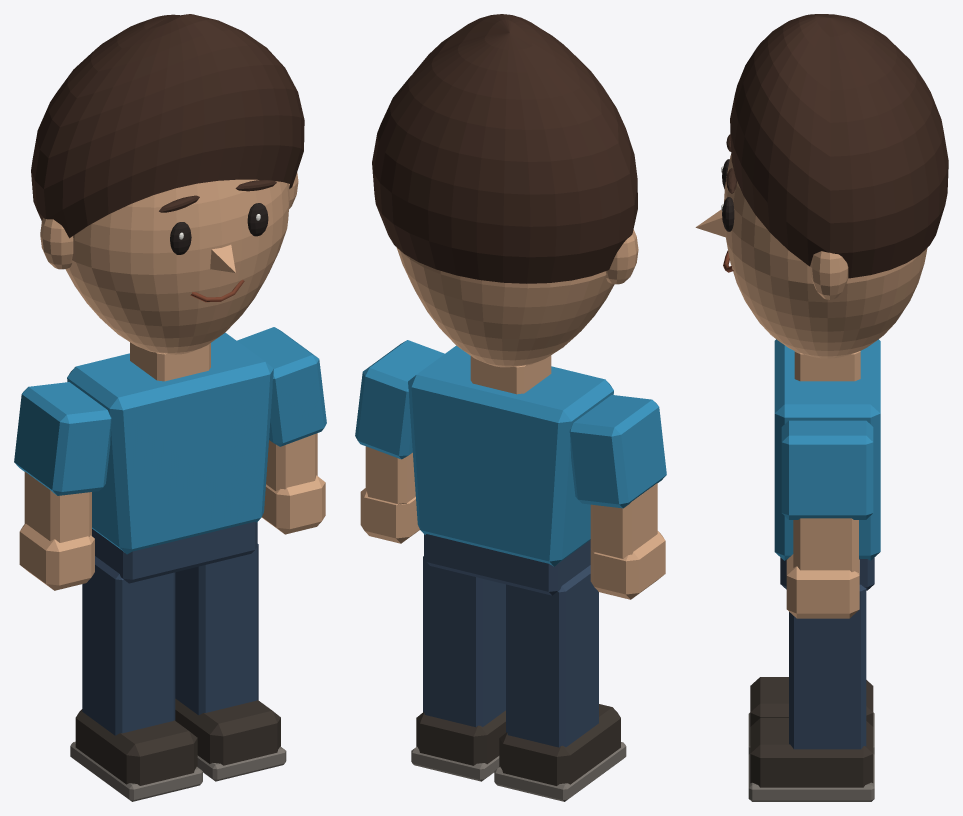
File: avatar-mii-kenney-cabelo-volumoso-01.fbx
3 renders of one model, left to right at view 1: azimuth 30°, elevation 25°; view 2: azimuth 150°, elevation 25°; view 3: azimuth 270°, elevation 25°, orthographic.
Parts seen in each view (by area): view 1: Cabelo_volumoso_01, Corpo_01, Cabeca_01, Perna_L, Perna_R, Manga, Sapato_L, Manga.001, Quadril, Sapato_R, Mao, Antebraco (+8 smaller); view 2: Cabelo_volumoso_01, Corpo_01, Perna_L, Cabeca_01, Perna_R, Manga, Manga.001, Quadril, Sapato_L, Sapato_R, Antebraco, Mao (+6 smaller); view 3: Cabelo_volumoso_01, Cabeca_01, Perna_R, Manga.001, Corpo_01, Sapato_R, Mao.001, Antebraco.001, Sola.001, Sapato_L, Pescoco, Orelha_R (+1 smaller).
Boxes of the visible parts, x1,y1,x2,y2 form: Cabelo_volumoso_01: (31,14,304,238); Corpo_01: (67,332,273,554); Cabeca_01: (65,179,289,354); Perna_L: (82,556,175,735); Perna_R: (175,544,258,715); Manga: (14,382,111,495); Sapato_L: (75,709,197,785); Manga.001: (237,327,326,446); Quadril: (92,521,257,583); Sapato_R: (175,698,280,765); Mao: (19,524,94,590); Antebraco: (24,471,91,542); Cabelo_volumoso_01: (372,14,637,283); Corpo_01: (408,345,613,566); Perna_L: (506,565,598,747); Cabeca_01: (396,247,614,367); Perna_R: (423,556,505,727); Manga: (569,395,666,508); Manga.001: (355,340,444,459); Quadril: (424,534,590,595); Sapato_L: (499,704,620,785); Sapato_R: (416,710,505,765); Antebraco: (590,483,657,558); Mao: (590,531,665,599); Cabelo_volumoso_01: (730,14,948,278); Cabeca_01: (724,154,927,358); Perna_R: (789,584,866,749); Manga.001: (781,420,873,519); Corpo_01: (774,339,880,560); Sapato_R: (750,718,873,787); Mao.001: (786,554,859,618); Antebraco.001: (793,518,858,572); Sola.001: (748,754,874,801); Sapato_L: (750,677,873,726); Pescoco: (794,351,860,381); Orelha_R: (810,251,848,299).
Size of the model in its own units: 114 by 290 by 88.52.
